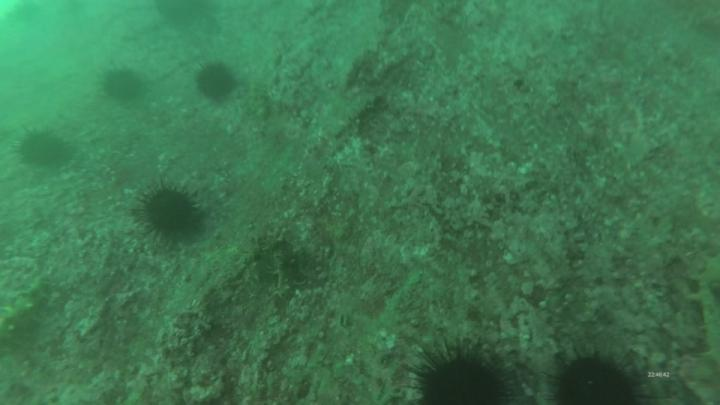echinus: (397, 334, 525, 405), (547, 346, 659, 405), (127, 178, 208, 254), (13, 124, 74, 171), (191, 58, 241, 109), (96, 64, 149, 110)
holothurian: (1, 282, 42, 366), (693, 250, 720, 375)
waterweeds: (158, 1, 216, 28)
